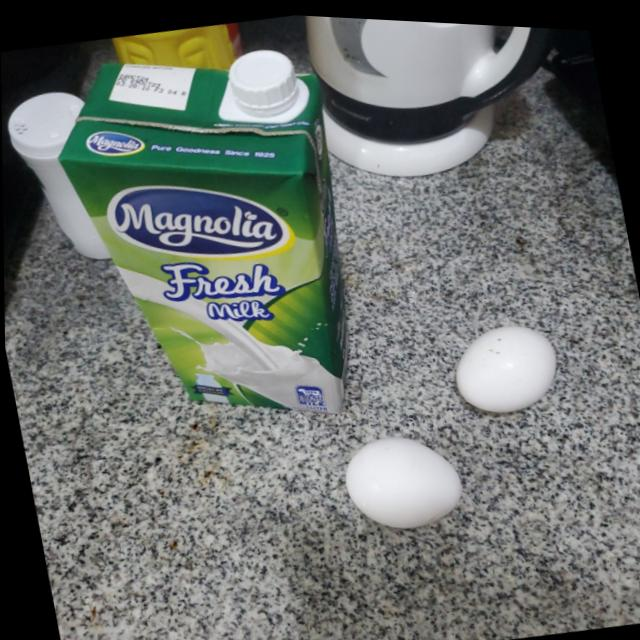egg: (334, 419, 472, 537), (441, 306, 570, 421)
milk: (43, 21, 383, 451)
